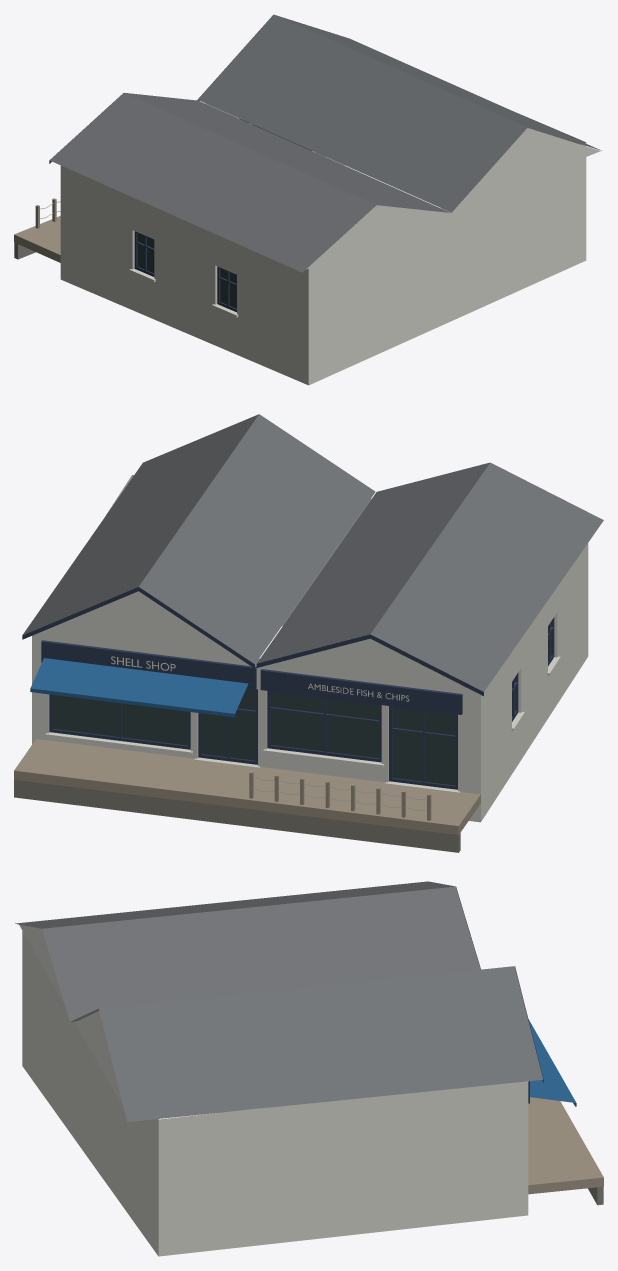
The model's file is esplanade-shops.glb.
3 renders of one model, top to bottom at view 1: azimuth 30°, elevation 25°; view 2: azimuth 150°, elevation 25°; view 3: azimuth 270°, elevation 25°, orthographic. The views are drawn at different scales.
Visible parts, largest first — view 1: The Esplanade shore shops; view 2: The Esplanade shore shops; view 3: The Esplanade shore shops.
Part boxes in pixels (<box>): The Esplanade shore shops: <box>14,14,601,385</box>; The Esplanade shore shops: <box>14,414,603,852</box>; The Esplanade shore shops: <box>15,881,603,1256</box>.
Size of the model in its own units: 17.84 by 6.81 by 18.19.
